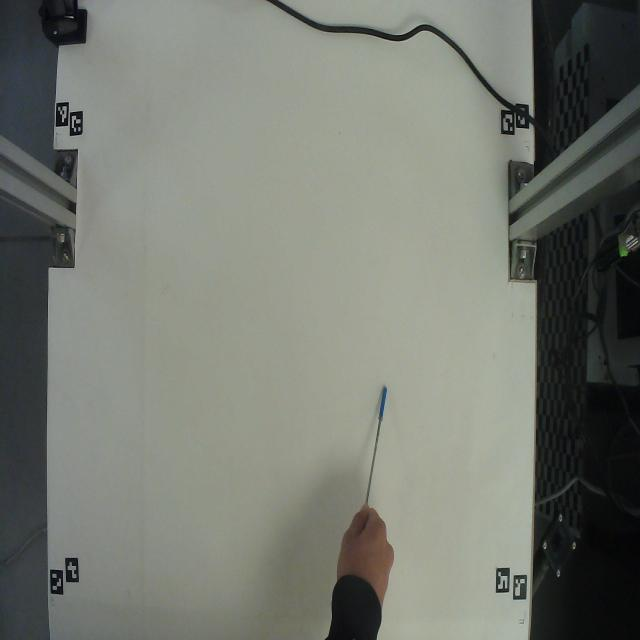Pres: (358, 369, 394, 540)
